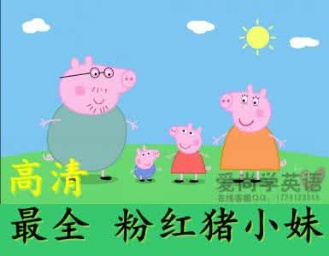Peppa: (165, 122, 209, 186)
